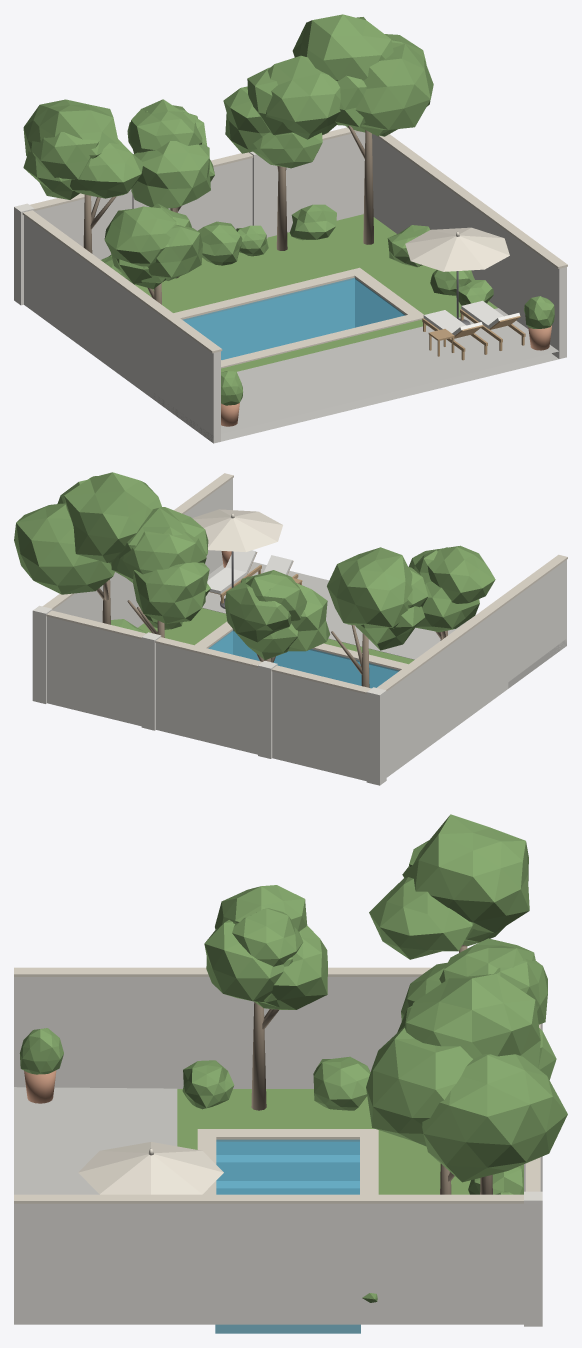
The model's file is Outside.fbx.
3 renders of one model, top to bottom at view 1: azimuth 30°, elevation 25°; view 2: azimuth 150°, elevation 25°; view 3: azimuth 270°, elevation 25°, orthographic. The views are drawn at different scales.
Parts seen in each view (by area): view 1: Out_BoundaryWall, Out_Patio, Out_Lawn, Out_Tree_4, Out_Tree_3, Out_Tree_1, Out_Pool_Shell, Out_Pool_Water, Out_Tree_2, Out_Tree_5, Out_Shrubs, Out_Pool_Coping (+4 smaller); view 2: Out_BoundaryWall, Out_Tree_4, Out_Tree_3, Out_Tree_1, Out_Tree_2, Out_Tree_5, Out_Patio, Out_Parasol, Out_Pool_Shell, Out_Pool_Water, Out_Lawn, Out_Lounger_2 (+3 smaller); view 3: Out_BoundaryWall, Out_Tree_4, Out_Tree_1, Out_Tree_5, Out_Patio, Out_Lawn, Out_Pool_Shell, Out_Pool_Water, Out_Parasol, Out_Shrubs, Out_Tree_2, Out_Pool_Coping (+2 smaller).
Part boxes in pixels (box(x1,y1,x2,y2)): Out_BoundaryWall: box(14, 127, 567, 443); Out_Patio: box(154, 308, 558, 441); Out_Lawn: box(134, 214, 497, 372); Out_Tree_4: box(292, 14, 433, 244); Out_Tree_3: box(223, 55, 340, 250); Out_Tree_1: box(23, 99, 143, 253); Out_Pool_Shell: box(182, 277, 405, 359); Out_Pool_Water: box(184, 279, 404, 359); Out_Tree_2: box(127, 99, 214, 278); Out_Tree_5: box(104, 203, 202, 304); Out_Shrubs: box(101, 204, 493, 305); Out_Pool_Coping: box(173, 267, 423, 368); Out_BoundaryWall: box(32, 473, 567, 785); Out_Tree_4: box(14, 472, 161, 624); Out_Tree_3: box(111, 507, 210, 637); Out_Tree_1: box(327, 547, 428, 687); Out_Tree_2: box(224, 570, 330, 662); Out_Tree_5: box(408, 545, 495, 640); Out_Patio: box(202, 562, 566, 688); Out_Parasol: box(192, 509, 282, 608); Out_Pool_Shell: box(208, 630, 399, 687); Out_Pool_Water: box(209, 631, 397, 688); Out_Lawn: box(138, 608, 414, 664); Out_Lounger_2: box(207, 550, 261, 603); Out_BoundaryWall: box(14, 965, 542, 1326); Out_Tree_4: box(366, 973, 567, 1194); Out_Tree_1: box(369, 814, 529, 959); Out_Tree_5: box(204, 885, 327, 1110); Out_Patio: box(14, 1087, 177, 1194); Out_Lawn: box(177, 1089, 470, 1194); Out_Pool_Shell: box(215, 1139, 360, 1333); Out_Pool_Water: box(216, 1141, 359, 1194); Out_Parasol: box(78, 1142, 223, 1194); Out_Shrubs: box(182, 1056, 523, 1302); Out_Tree_2: box(401, 938, 547, 1024); Out_Pool_Coping: box(197, 1129, 378, 1194).
Size of what is drawn, in the model's own units: 10.72 by 7.08 by 9.5.
